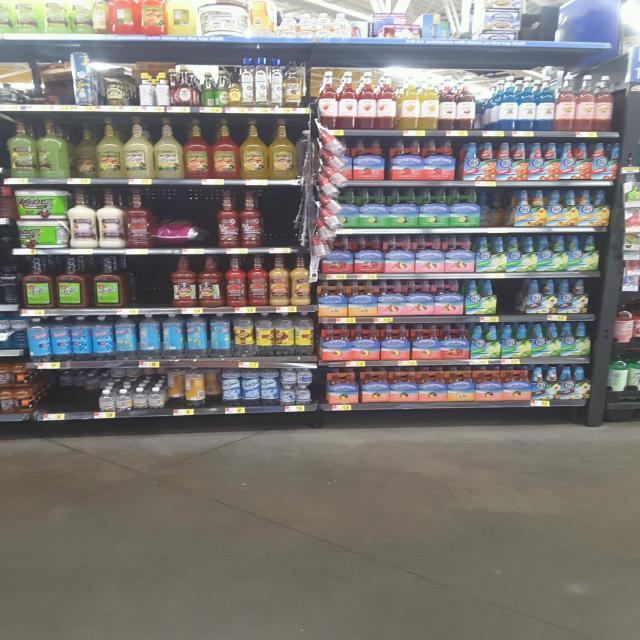void: (558, 0, 612, 47), (130, 256, 169, 315), (268, 189, 300, 256), (440, 0, 477, 47), (526, 0, 558, 45), (481, 189, 512, 235), (36, 369, 58, 421), (499, 280, 523, 324)
